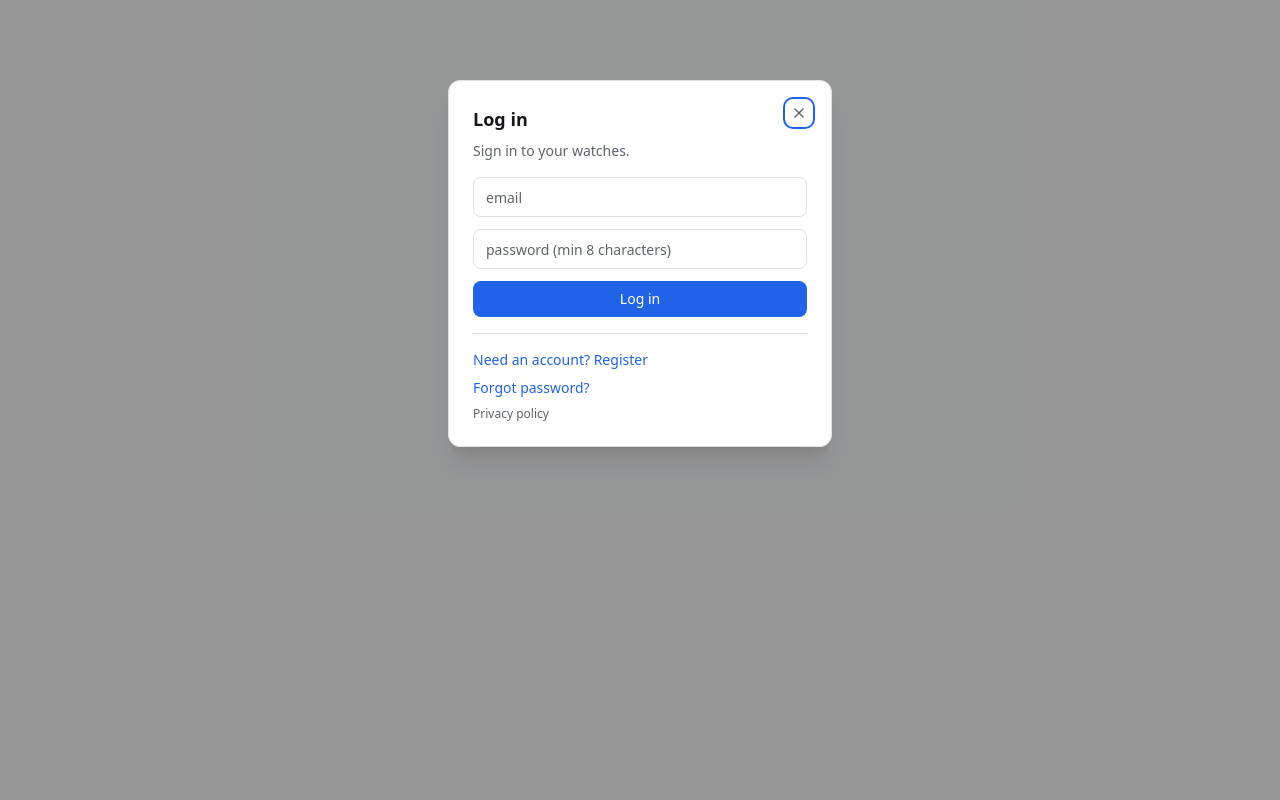
Test: Login — forgotten password › is reachable only from the login screen
Expected: the button "Forgot password?" is shown, [473,378,590,398]
Click the button "Need an account? Register" at (560, 360), box [473,350,648,370]
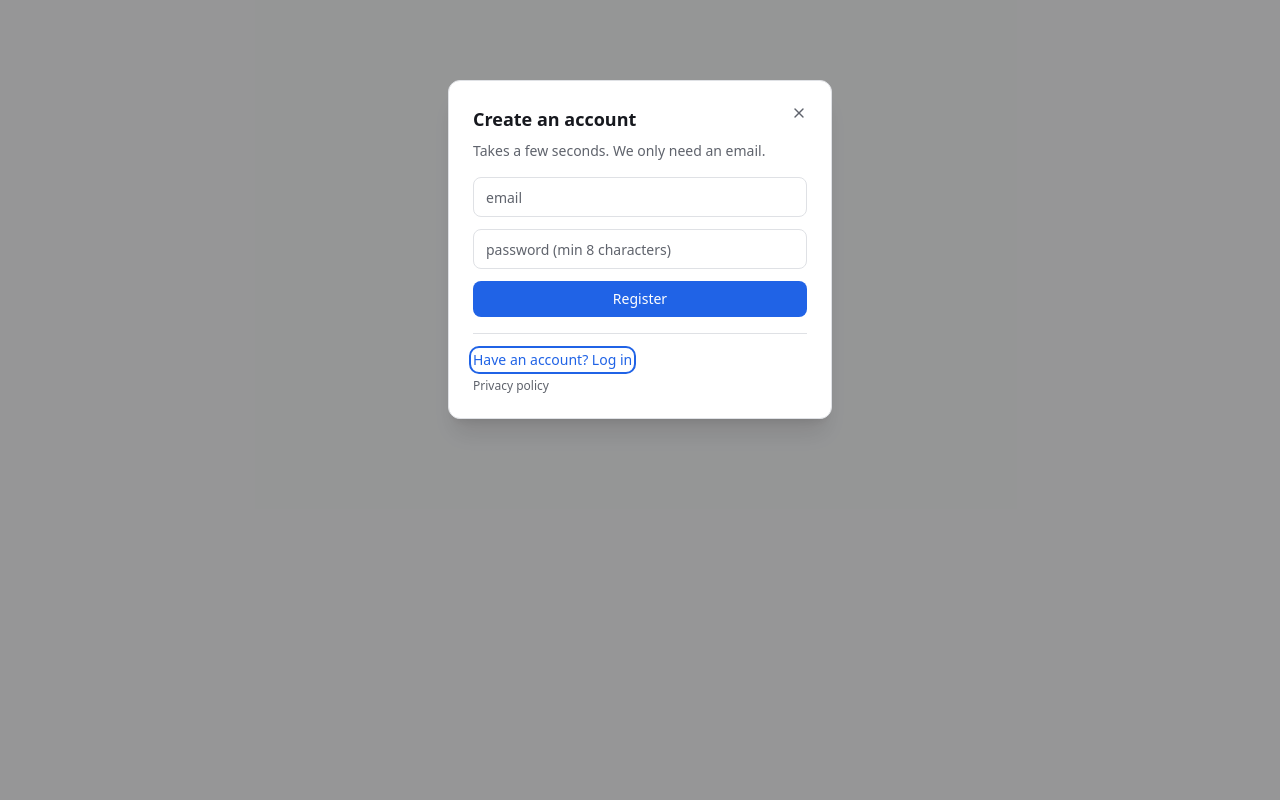
Expected: the button "Forgot password" is gone
